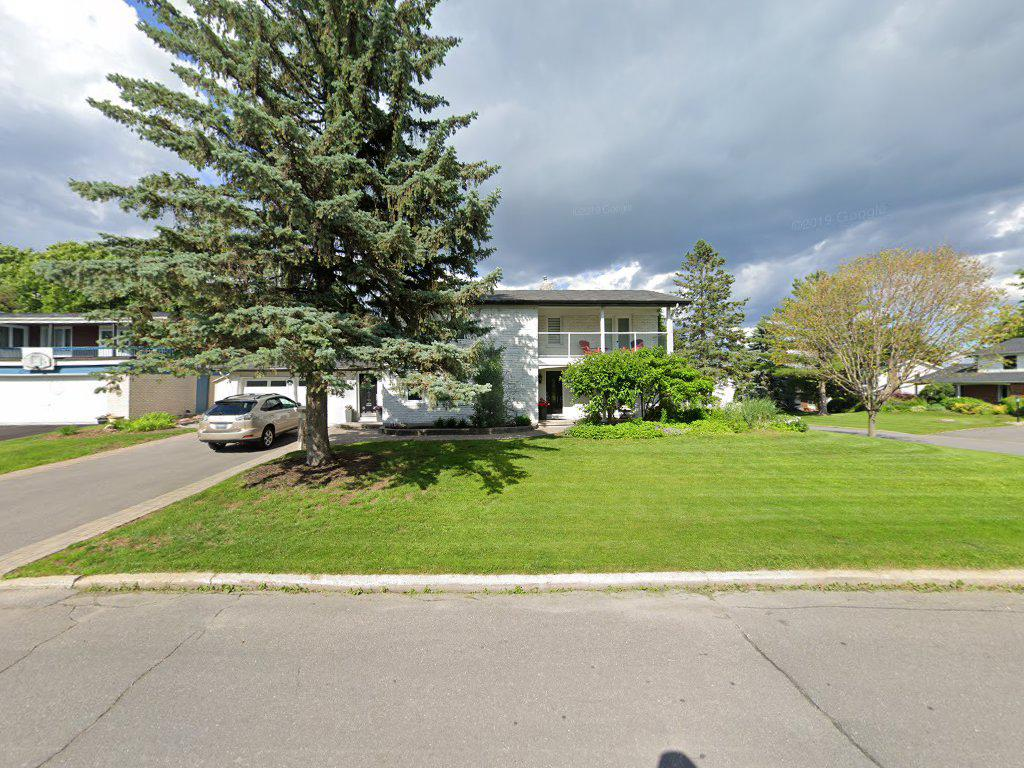trunk: (295, 361, 338, 489)
